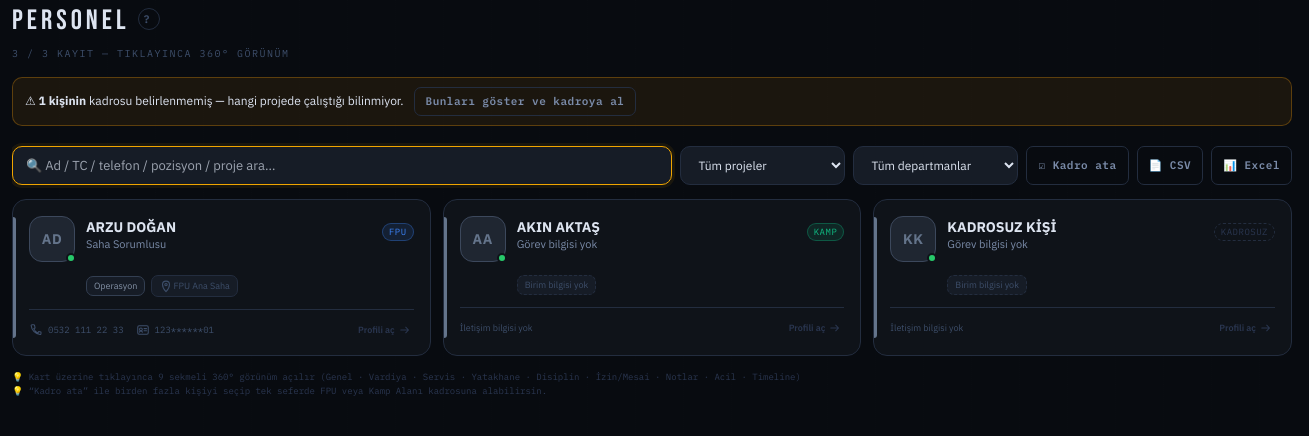
Test: Personel listesi — kadro › kadrosu belirsiz olanlar ayrıca süzülebilir
Expected: the heading "ARZU DOĞAN" is shown, [86,218,176,237]
Select "Kadrosu belirsiz (1)" in the dropdown named "Proje filtresi": x=763, y=165 [680,146,845,185]
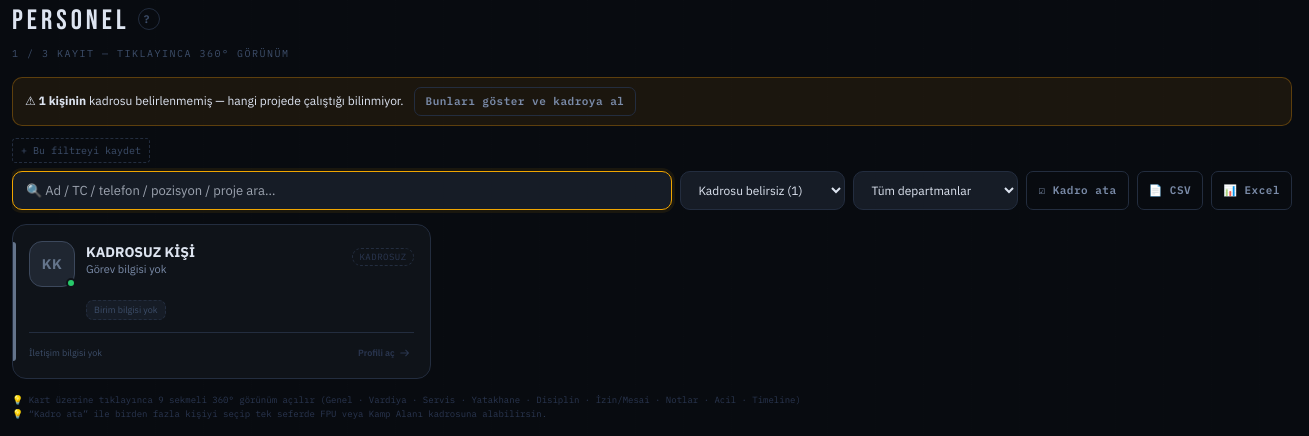
Expected: the heading "KADROSUZ KİŞİ" is shown, [86,243,195,262]
Now the heading "AKIN AKTAŞ" is gone
